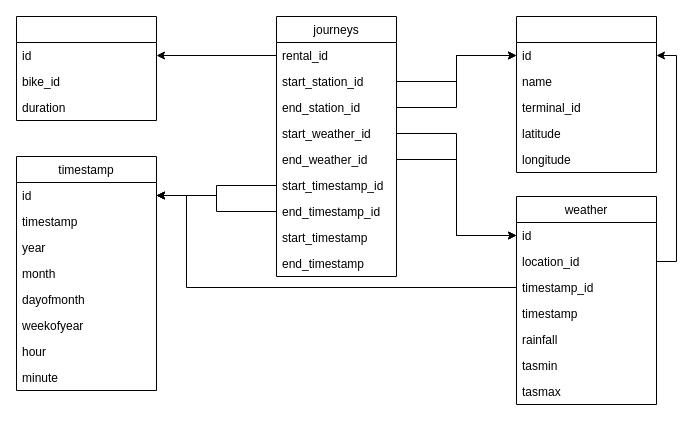
The diagram is 693 pixels wide and 421 high, and some of its shapes have lost their labels. The box of each missing label's shape, as (x1, y1, x2, y2) in pixels:
locations: (516, 16, 656, 172)
rentals: (16, 16, 156, 120)
